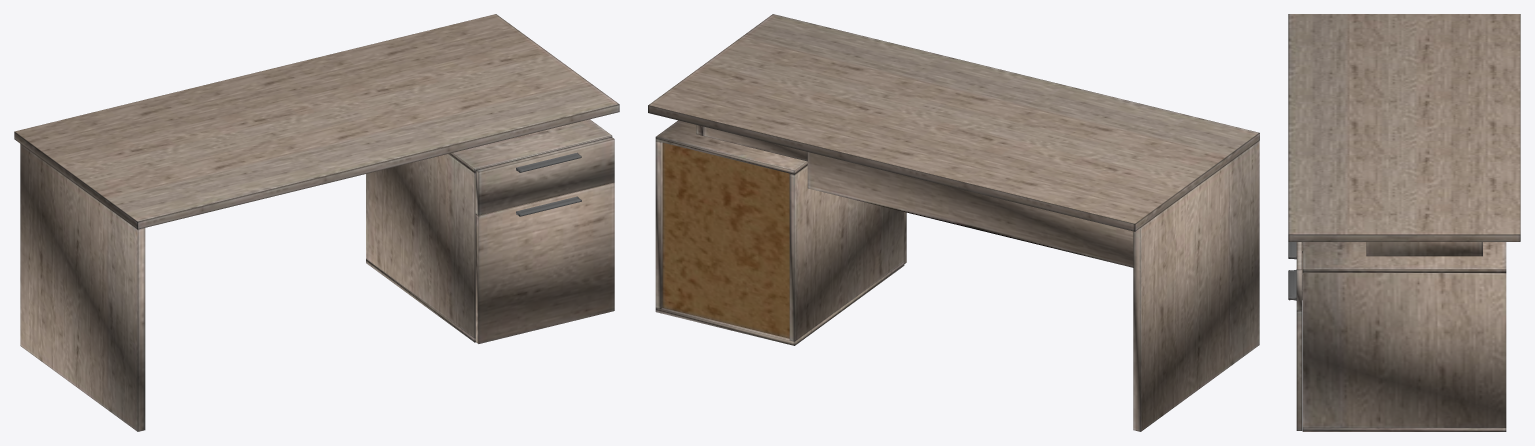
The model's file is desk-ikea-uppspel_lod2.glb.
3 views of the same model, side by side, from view 1: azimuth 30°, elevation 25°; view 2: azimuth 150°, elevation 25°; view 3: azimuth 270°, elevation 25° (orthographic). The views are drawn at different scales.
Visible parts, largest first — view 1: body; view 2: body; view 3: body.
Boxes of the visible parts, <box> form: body: <box>14,14,619,431</box>; body: <box>648,14,1259,431</box>; body: <box>1288,14,1520,431</box>.
Bounding box in the file's own units: 1.8 × 0.7498 × 0.7999.
1 material, 1 textured.
